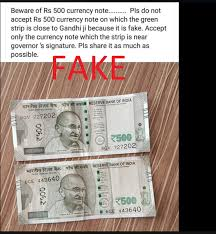fiveHundred: (24, 171, 142, 207), (18, 109, 141, 143)
